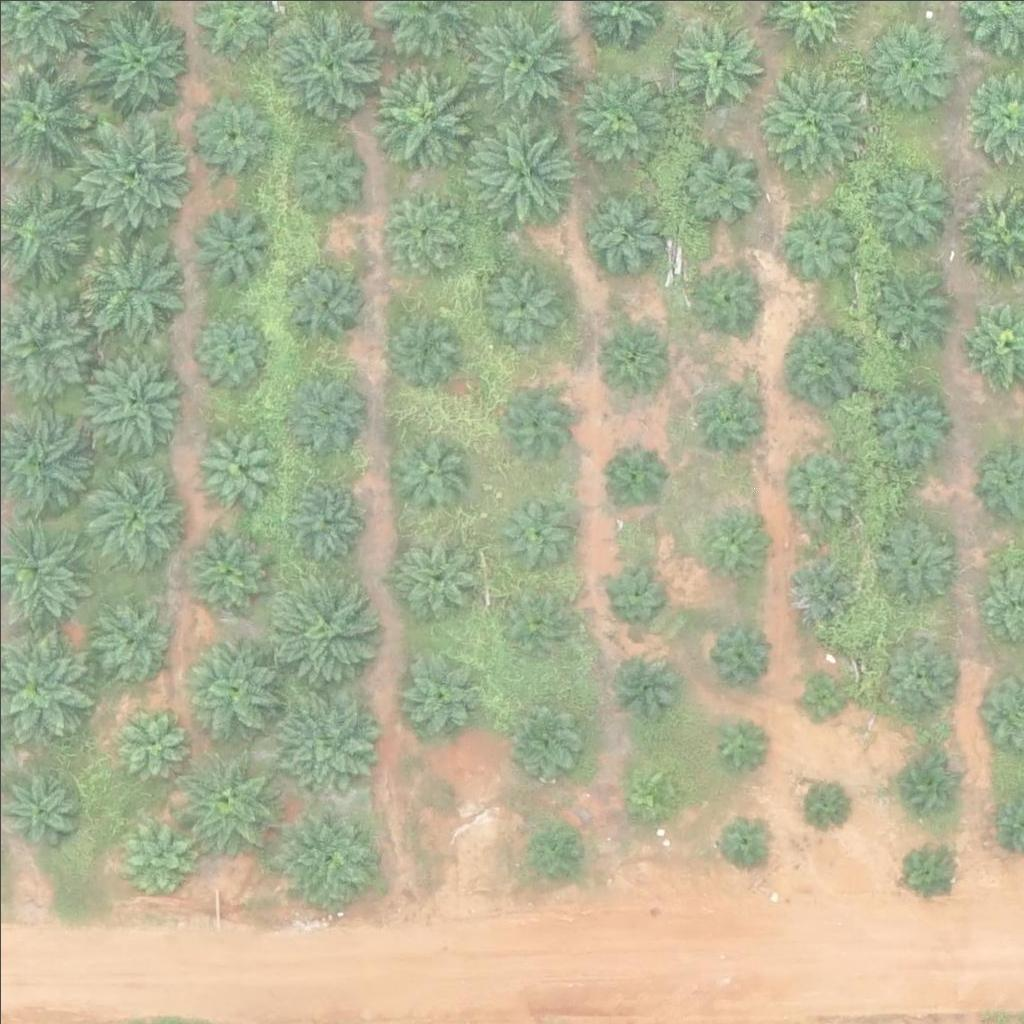Kelapa_Sawit: (264, 679, 377, 793), (258, 572, 371, 686), (77, 115, 190, 229), (78, 4, 191, 117), (467, 115, 580, 228), (467, 2, 580, 115), (76, 228, 188, 342), (271, 8, 383, 121), (370, 55, 482, 168), (276, 805, 376, 906), (178, 754, 278, 855), (565, 67, 665, 168), (758, 70, 858, 171), (178, 635, 278, 735), (81, 468, 181, 568), (78, 354, 178, 454), (864, 13, 964, 113), (473, 257, 561, 346), (869, 518, 957, 606), (774, 318, 862, 406), (865, 378, 953, 466), (377, 186, 465, 274), (677, 141, 765, 229), (673, 15, 761, 103), (583, 187, 670, 276), (106, 809, 193, 897), (189, 197, 276, 285), (183, 303, 270, 391), (274, 258, 361, 346), (866, 259, 953, 347), (185, 94, 272, 182), (864, 161, 951, 249), (495, 587, 570, 663), (511, 697, 586, 773), (397, 536, 472, 612), (402, 656, 477, 732), (282, 483, 357, 559), (284, 369, 359, 445), (190, 530, 265, 606), (195, 426, 270, 502), (88, 597, 163, 673), (879, 632, 954, 707), (113, 705, 188, 780), (685, 256, 760, 331), (697, 372, 772, 447), (496, 381, 571, 456), (391, 309, 466, 384), (389, 437, 464, 512), (495, 497, 570, 572), (787, 446, 862, 521), (780, 547, 855, 622), (608, 642, 683, 717), (594, 552, 669, 627), (596, 438, 671, 513), (593, 314, 668, 389), (289, 135, 364, 210), (779, 198, 854, 273), (897, 840, 960, 903), (896, 751, 959, 814), (699, 511, 762, 574), (622, 756, 685, 819), (530, 818, 593, 881), (713, 809, 775, 872), (709, 709, 771, 772), (709, 622, 771, 685), (795, 777, 845, 828), (796, 671, 846, 722)
